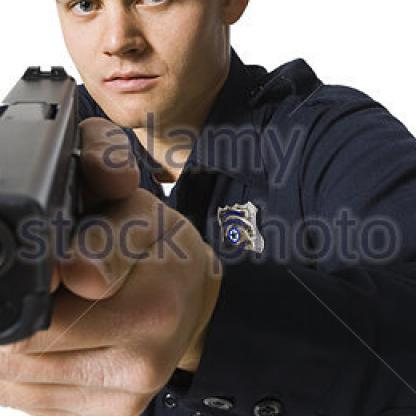gun: (0, 45, 109, 388)
